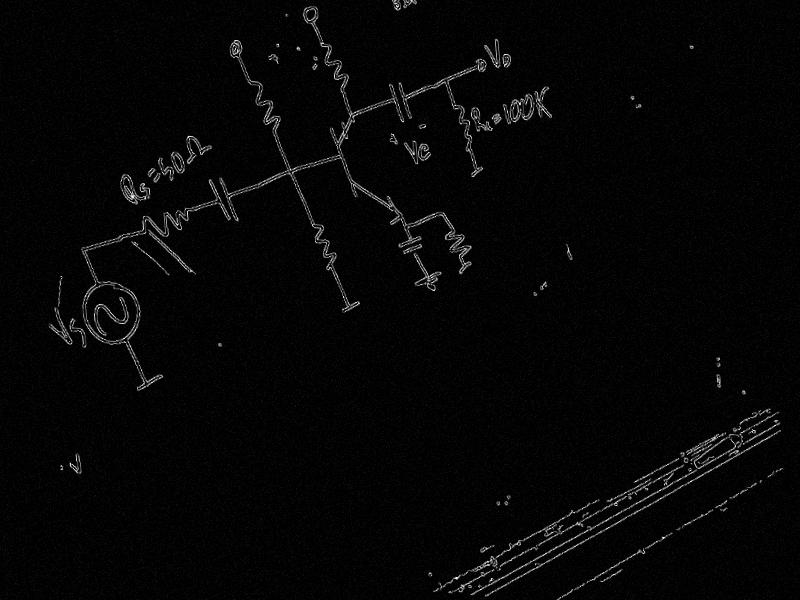-: (417, 122, 427, 132)
0: (518, 91, 537, 123), (169, 150, 186, 176), (507, 96, 523, 123), (501, 51, 513, 69)
1: (501, 101, 512, 126)
5: (157, 156, 176, 183), (138, 181, 152, 199)
V: (47, 305, 76, 349), (482, 36, 502, 68), (403, 137, 419, 167)
k: (533, 83, 554, 119)
